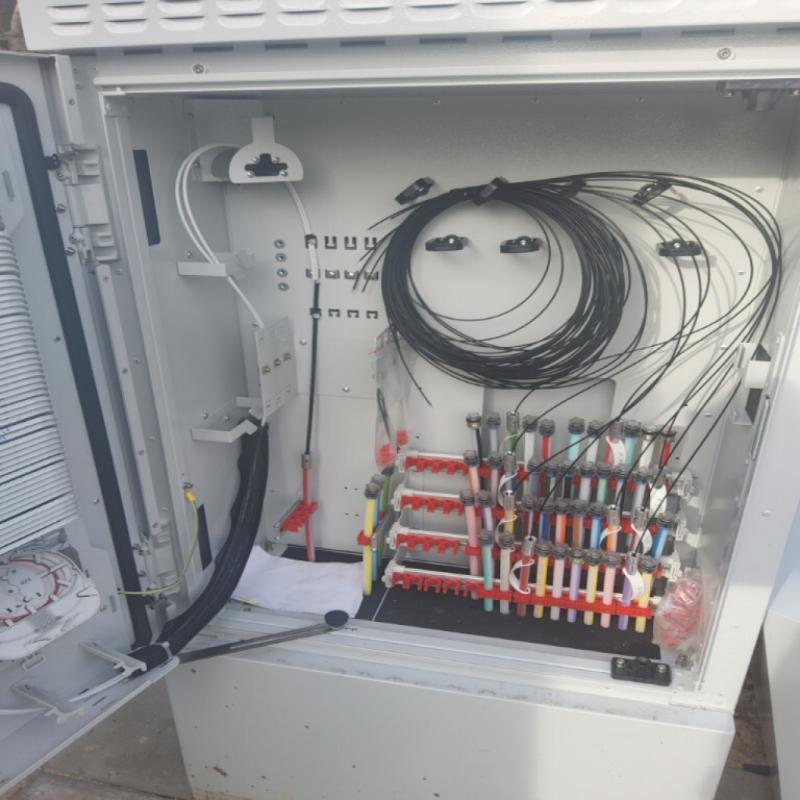NT-Gehause: (3, 2, 800, 798)
Spleiskassetten: (0, 145, 107, 665)
